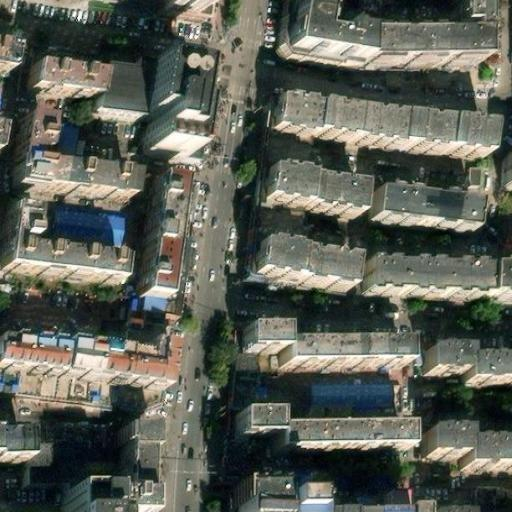building: (266, 102, 483, 158), (0, 199, 119, 276), (133, 176, 177, 309), (12, 155, 129, 199), (365, 186, 473, 232), (258, 174, 358, 218), (361, 262, 482, 297), (254, 247, 352, 290), (140, 71, 193, 150), (279, 0, 355, 54), (362, 27, 475, 60), (273, 421, 403, 448), (277, 338, 399, 363), (148, 0, 222, 38), (123, 335, 176, 385), (96, 67, 147, 116), (27, 431, 92, 465), (26, 63, 93, 95), (120, 426, 146, 487), (16, 109, 46, 159), (460, 354, 512, 378), (420, 422, 462, 450), (235, 409, 274, 437), (421, 347, 461, 373), (284, 484, 321, 511), (238, 329, 277, 352), (487, 272, 512, 302), (60, 121, 81, 155), (427, 500, 485, 512), (231, 497, 275, 512), (0, 39, 16, 71), (498, 152, 511, 190), (499, 215, 512, 253), (388, 506, 408, 512)
